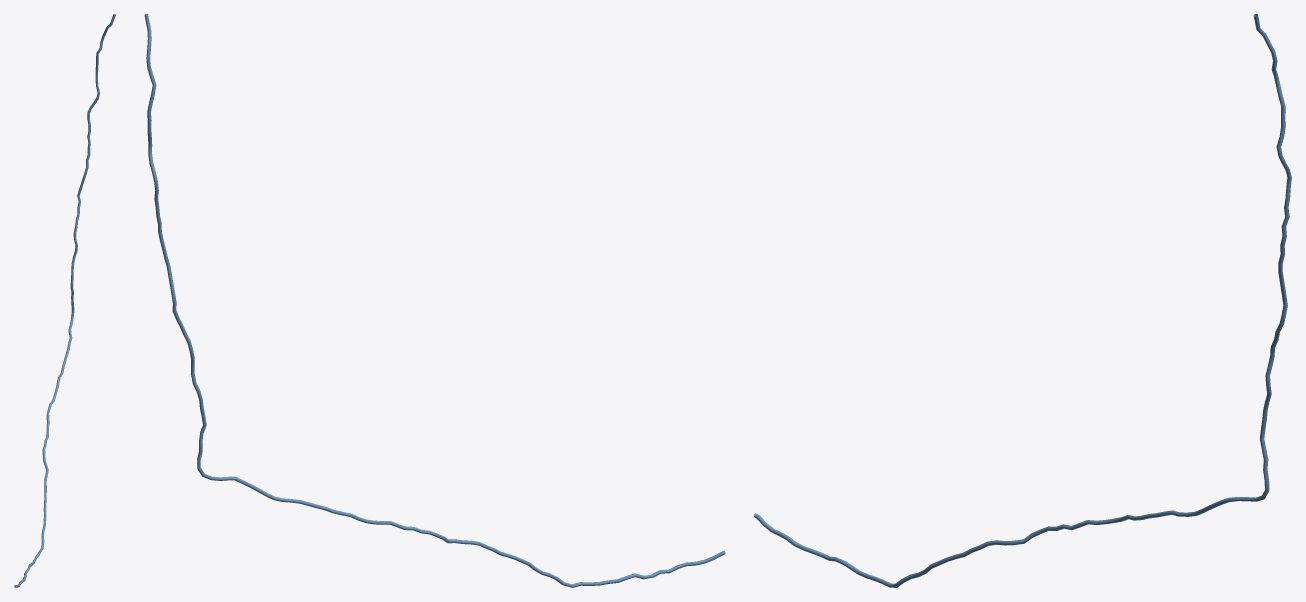
Rendered from sweep166.fbx.
3 views of the same model, side by side, from view 1: azimuth 30°, elevation 25°; view 2: azimuth 150°, elevation 25°; view 3: azimuth 270°, elevation 25° (orthographic). The views are drawn at different scales.
Visible parts, largest first — view 1: sweep166; view 2: sweep166; view 3: sweep166.
Part boxes in pixels (<box>): sweep166: <box>14,14,115,587</box>; sweep166: <box>144,14,725,587</box>; sweep166: <box>754,14,1291,587</box>.
Bounding box in the file's own units: 2.16 × 3.51 × 2.36.
